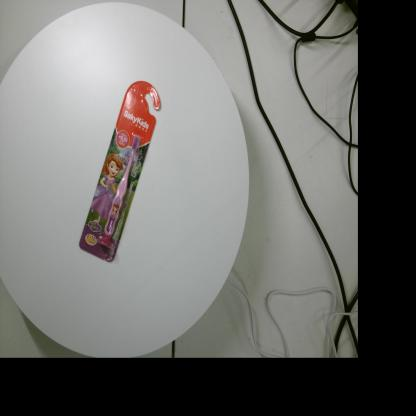Personal Hygiene: (78, 81, 160, 262)
